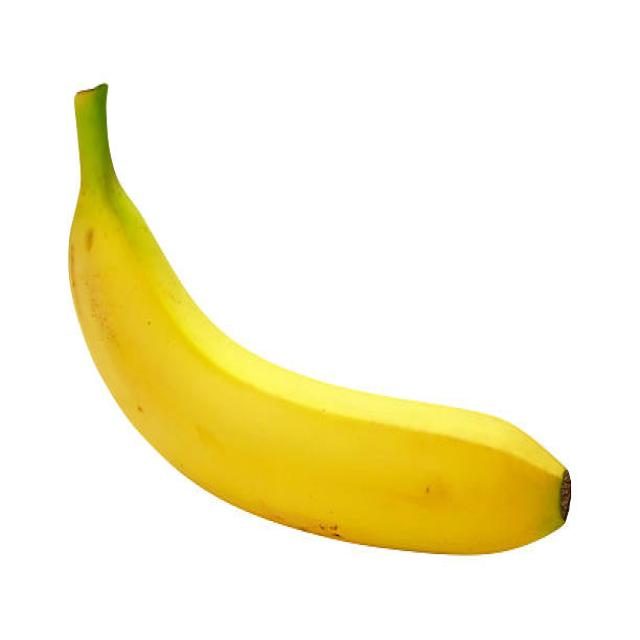banana: (66, 83, 572, 561)
